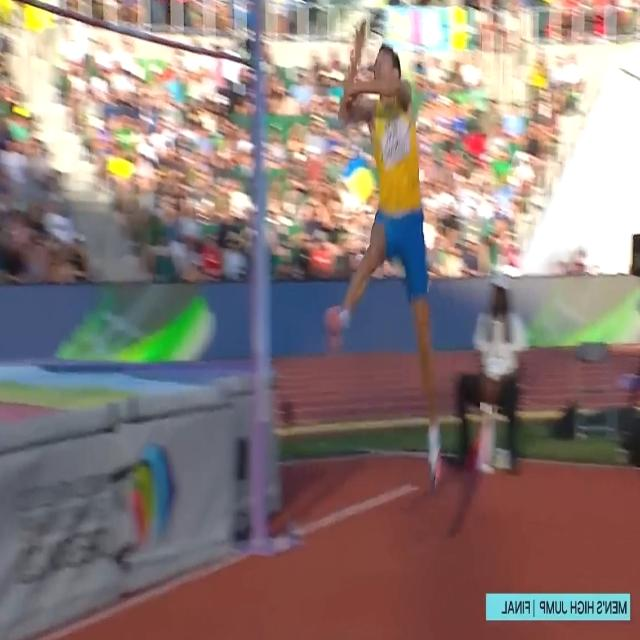jump: (326, 22, 441, 488)
